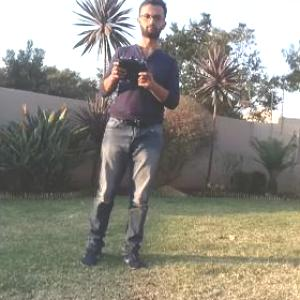follow: (75, 0, 185, 273)
